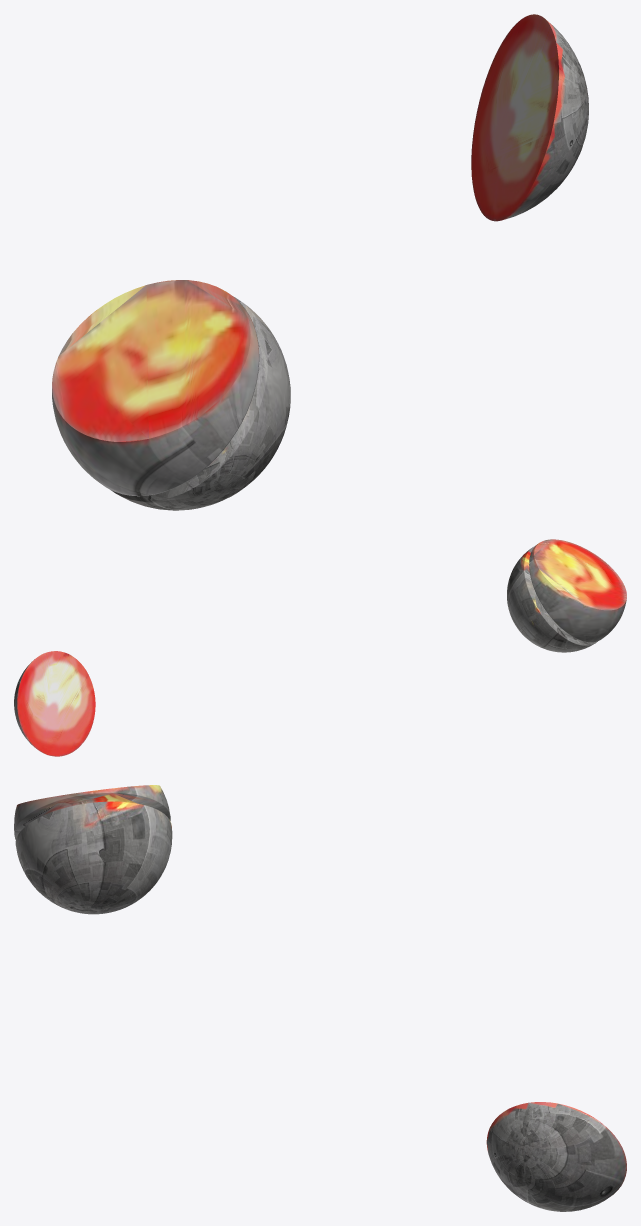
Rendered from Drone166_000044.obj.
3 renders of one model, top to bottom at view 1: azimuth 30°, elevation 25°; view 2: azimuth 150°, elevation 25°; view 3: azimuth 270°, elevation 25°, orthographic. The views are drawn at different scales.
Visible parts, largest first — view 1: Sphere.006, Sphere.000_Sphere.007; view 2: Sphere.006, Sphere.000_Sphere.007; view 3: Sphere.006, Sphere.000_Sphere.007.
Part boxes in pixels (x1,y1,x2,y2): Sphere.006: (52, 280, 290, 510); Sphere.000_Sphere.007: (471, 14, 588, 221); Sphere.006: (507, 539, 626, 652); Sphere.000_Sphere.007: (14, 651, 95, 756); Sphere.006: (14, 785, 172, 914); Sphere.000_Sphere.007: (486, 1102, 626, 1211).
Size of the model in its own units: 8.55 by 3.04 by 7.8.
Materials: 3 (3 with a texture image).
